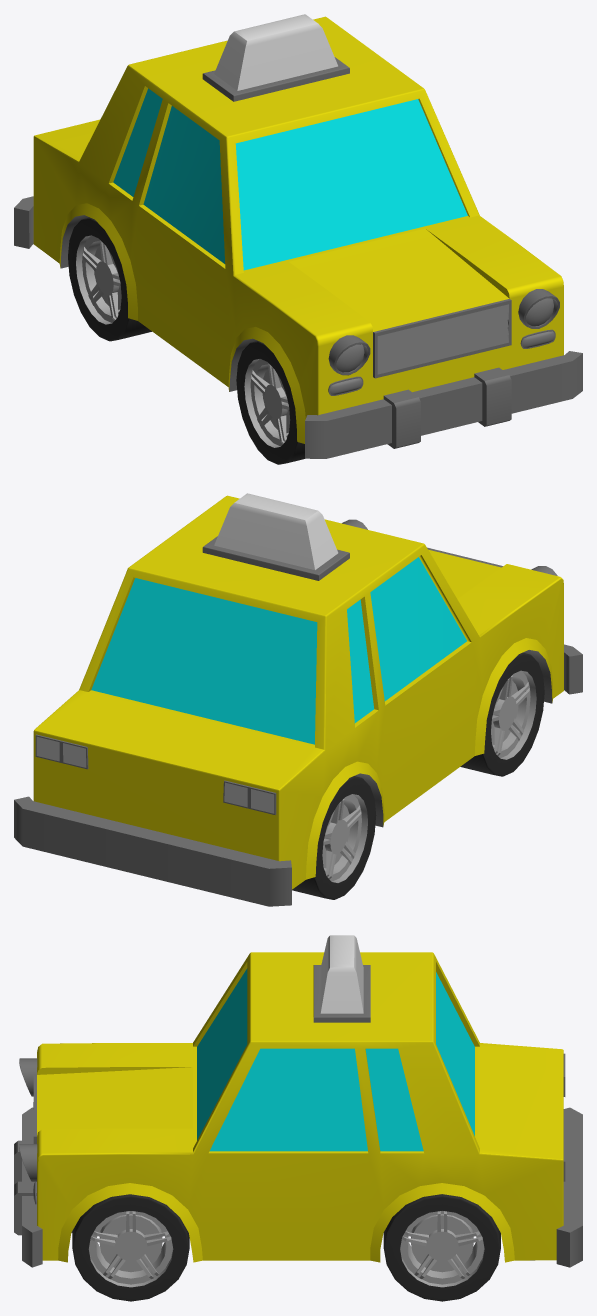
The model's file is ART-MOD-A-TAXI-YELLOW-001.fbx.
3 views of the same model, one above another, from view 1: azimuth 30°, elevation 25°; view 2: azimuth 150°, elevation 25°; view 3: azimuth 270°, elevation 25° (orthographic). The views are drawn at different scales.
Parts seen in each view (by area): view 1: Taxi_GEO; view 2: Taxi_GEO; view 3: Taxi_GEO.
Part boxes in pixels (x1,y1,x2,y2): Taxi_GEO: (14, 14, 582, 464); Taxi_GEO: (14, 493, 582, 906); Taxi_GEO: (14, 935, 582, 1301).
Bounding box in the file's own units: 232 × 257 × 446.
